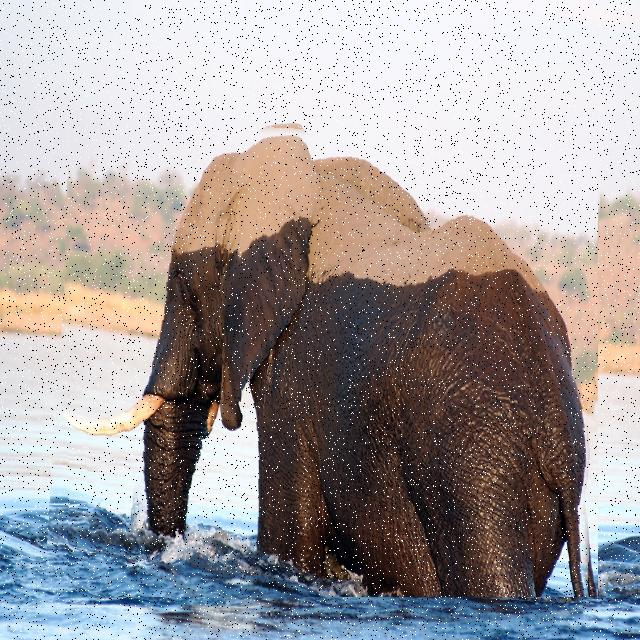elephant: (52, 116, 598, 597)
